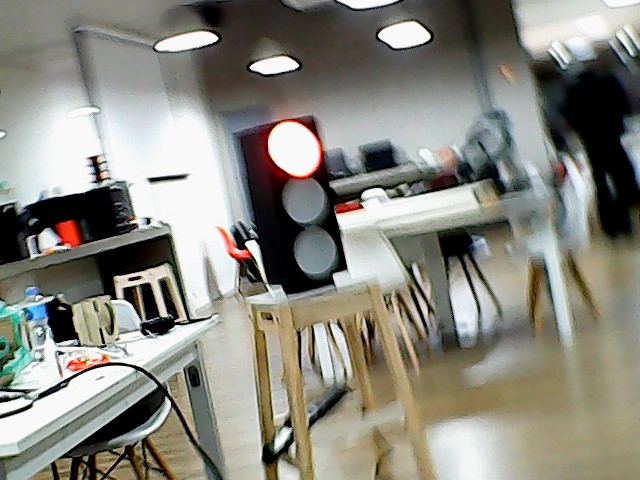vermelho: (230, 113, 358, 291)
